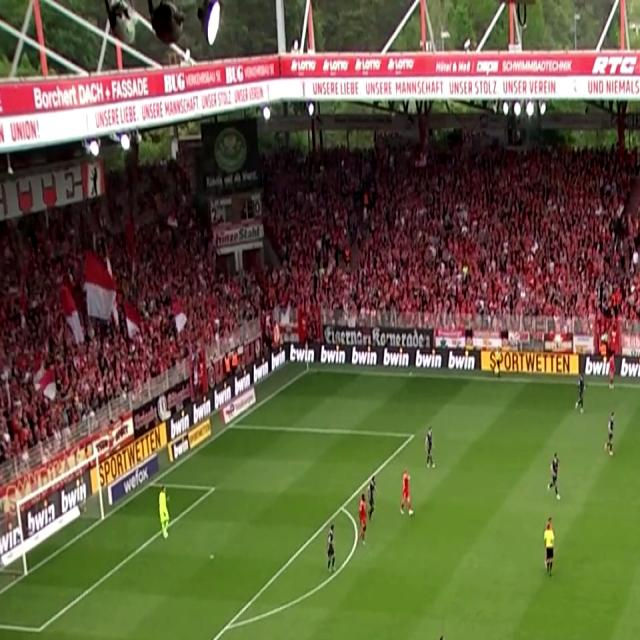goalkeeper: (152, 481, 174, 544)
referee: (540, 514, 564, 584), (492, 342, 503, 383)
soccer-player: (545, 451, 570, 507), (398, 468, 420, 524), (420, 422, 442, 474), (604, 409, 625, 462), (322, 525, 342, 579), (356, 490, 370, 552), (572, 372, 590, 418), (426, 630, 460, 640)
